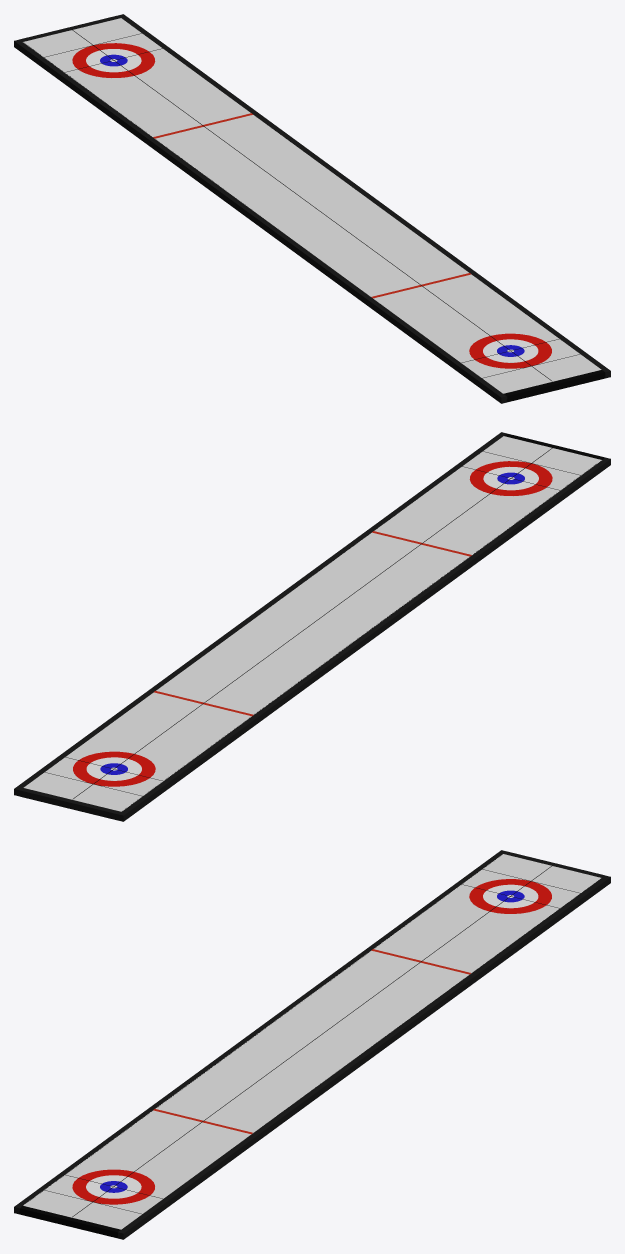
The model's file is arena.dae.
The picture shows the model from 3 angles, top to bottom: view 1: azimuth 30°, elevation 25°; view 2: azimuth 150°, elevation 25°; view 3: azimuth 330°, elevation 25°; orthographic projection.
Parts seen in each view (by area): view 1: Cube_003, Cube_001, Cube_002, Cylinder_013, Cylinder_008, Cube_004, Cylinder_014, Cylinder_018, Plane_004; view 2: Cube_003, Cube_001, Cube_002, Cylinder_008, Cylinder_013, Cube_000, Cylinder_018, Cylinder_014, Plane_004; view 3: Cube_003, Cube_002, Cube_001, Cylinder_013, Cylinder_008, Cube_004, Cylinder_014, Cylinder_018, Plane_004.
Boxes of the visible parts, x1,y1,x2,y2 form: Cube_003: (23, 18, 601, 393); Cube_001: (14, 39, 507, 403); Cube_002: (118, 14, 610, 378); Cylinder_013: (469, 333, 551, 368); Cylinder_008: (72, 43, 155, 77); Cube_004: (503, 370, 605, 402); Cylinder_014: (483, 339, 538, 362); Cylinder_018: (86, 49, 141, 72); Plane_004: (72, 29, 552, 381); Cube_003: (23, 436, 601, 811); Cube_001: (118, 457, 610, 821); Cube_002: (14, 432, 506, 796); Cylinder_008: (73, 751, 155, 786); Cylinder_013: (469, 461, 552, 495); Cube_000: (19, 788, 120, 820); Cylinder_018: (86, 757, 141, 780); Cylinder_014: (483, 466, 538, 490); Plane_004: (72, 447, 552, 799); Cube_003: (23, 854, 600, 1229); Cube_002: (118, 875, 610, 1239); Cube_001: (14, 850, 506, 1214); Cylinder_013: (72, 1169, 154, 1204); Cylinder_008: (469, 879, 551, 913); Cube_004: (19, 1206, 120, 1238); Cylinder_014: (86, 1175, 141, 1198); Cylinder_018: (483, 884, 538, 908); Plane_004: (72, 865, 552, 1217).
Bounding box in the file's own units: 1.85 × 14.22 × 0.1056.
